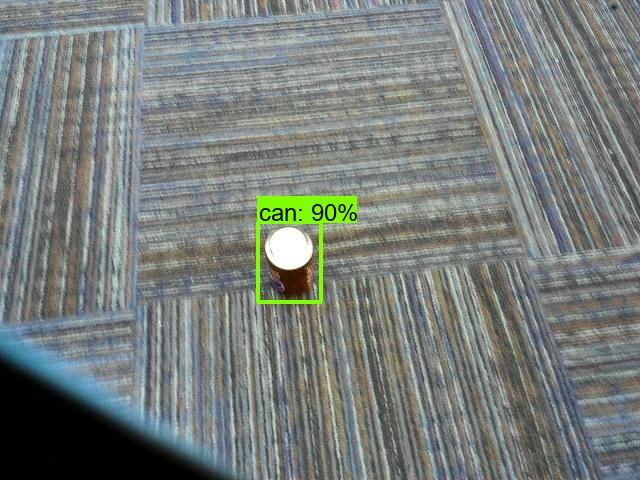can: (261, 224, 324, 302)
